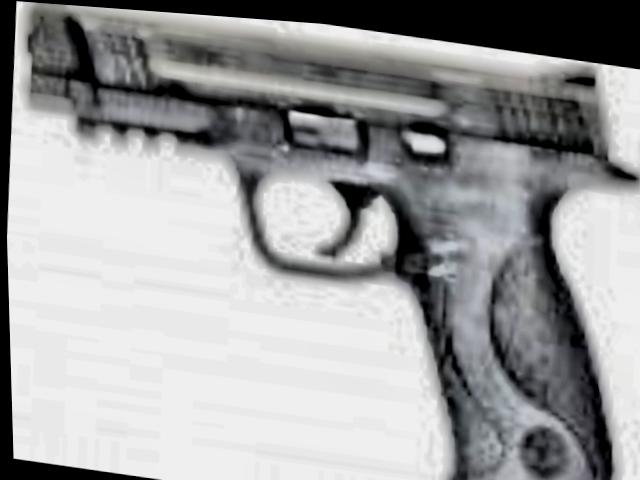pistol: (1, 0, 639, 480)
